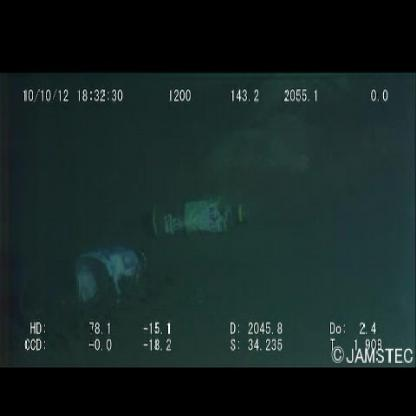Rác: (50, 230, 172, 327), (146, 186, 256, 258)
